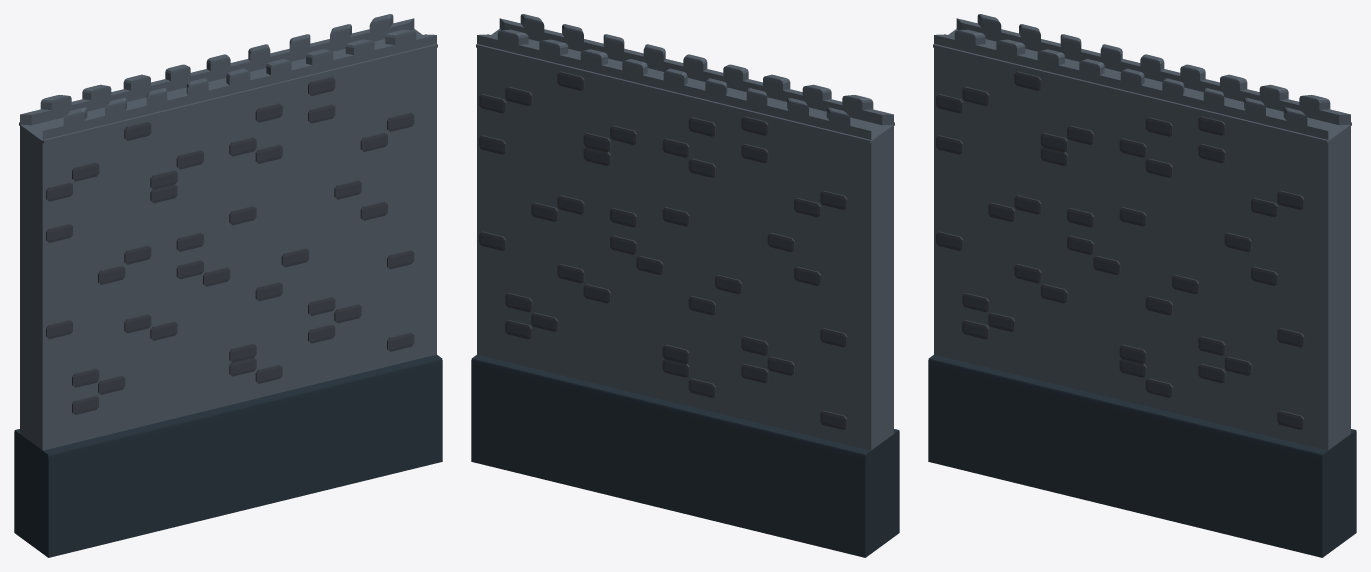
File: The Wall.fbx_There_is_no_war.fbx
3 views of the same model, side by side, from view 1: azimuth 30°, elevation 25°; view 2: azimuth 150°, elevation 25°; view 3: azimuth 330°, elevation 25° (orthographic).
Visible parts, largest first — view 1: Cube; view 2: Cube; view 3: Cube.
Boxes of the visible parts, x1=… form: Cube: x1=14, y1=14, x2=442, y2=557; Cube: x1=471, y1=14, x2=899, y2=557; Cube: x1=928, y1=14, x2=1356, y2=557.
Size of the model in its own units: 900 by 6000 by 6300.
